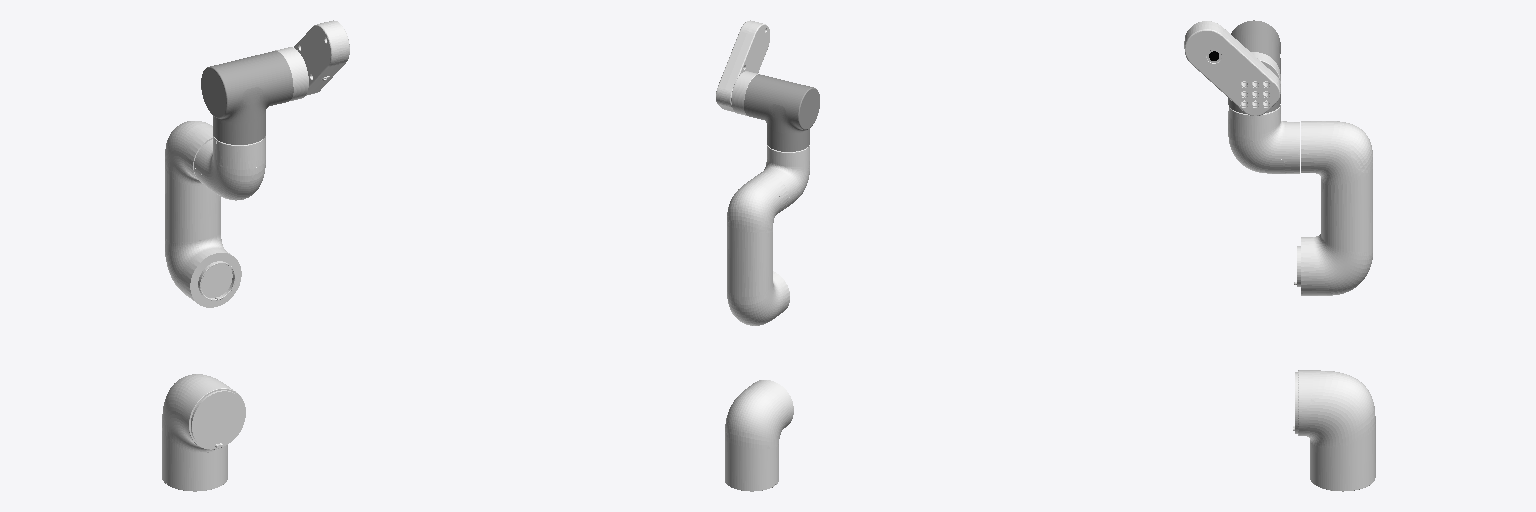
The robot description file, URDF, robot "mycobot_280_jn":
<?xml version="1.0"?>
<robot name="mycobot_280_jn">
  <link name="world"/>
  <joint name="world_to_g_base" type="fixed"><parent link="world"/><child link="g_base"/><origin xyz="0 0 0" rpy="0 0 0"/></joint>

  <link name="g_base">
    <visual>
      <geometry><mesh filename="package://positronic_description/urdf/mycobot_280_jn_sim/meshes/visual/g_base.dae"/></geometry>
    </visual>
    <collision>
      <geometry><mesh filename="package://positronic_description/urdf/mycobot_280_jn_sim/meshes/collision/g_base.stl"/></geometry>
    </collision>
    <inertial>
      <origin xyz="0.000004 0.000000 0.016000" rpy="0 0 0"/>
      <mass value="0.18415"/>
      <inertia ixx="3.5748e-04" ixy="5.8017e-10" ixz="1.5028e-14" iyy="1.9952e-04" iyz="-4.0912e-09" izz="5.2559e-04"/>
    </inertial>
  </link>
  <joint name="g_base_to_joint1" type="fixed"><parent link="g_base"/><child link="joint1"/><origin xyz="0 0 0.0320" rpy="0 0 0"/></joint>

  <link name="joint1">
    <visual>
      <geometry><mesh filename="package://positronic_description/urdf/mycobot_280_jn_sim/meshes/visual/joint1.dae"/></geometry>
    </visual>
    <collision>
      <geometry><mesh filename="package://positronic_description/urdf/mycobot_280_jn_sim/meshes/collision/joint1.stl"/></geometry>
    </collision>
    <inertial>
      <origin xyz="-0.000007 -0.000080 0.049738" rpy="0 0 0"/>
      <mass value="0.50875"/>
      <inertia ixx="1.2317e-03" ixy="6.9182e-09" ixz="-6.2406e-08" iyy="9.2410e-04" iyz="1.1339e-06" izz="1.1863e-03"/>
    </inertial>
  </link>
  <link name="joint2">
    <visual>
      <geometry><mesh filename="package://positronic_description/urdf/mycobot_280_jn_sim/meshes/visual/joint2.dae"/></geometry>
    </visual>
    <collision>
      <geometry><mesh filename="package://positronic_description/urdf/mycobot_280_jn_sim/meshes/collision/joint2.stl"/></geometry>
    </collision>
    <inertial>
      <origin xyz="-0.000000 -0.006642 -0.021543" rpy="0 0 0"/>
      <mass value="0.06376"/>
      <inertia ixx="4.6518e-05" ixy="-1.4217e-10" ixz="4.0220e-11" iyy="4.1988e-05" iyz="5.2079e-06" izz="2.3962e-05"/>
    </inertial>
  </link>
  <link name="joint3">
    <visual>
      <geometry><mesh filename="package://positronic_description/urdf/mycobot_280_jn_sim/meshes/visual/joint3.dae"/></geometry>
    </visual>
    <collision>
      <geometry><mesh filename="package://positronic_description/urdf/mycobot_280_jn_sim/meshes/collision/joint3.stl"/></geometry>
    </collision>
    <inertial>
      <origin xyz="-0.054329 -0.000001 0.055329" rpy="0 0 0"/>
      <mass value="0.11283"/>
      <inertia ixx="4.0982e-05" ixy="-4.4556e-09" ixz="-7.0957e-07" iyy="2.1152e-04" iyz="-8.7142e-10" izz="2.0504e-04"/>
    </inertial>
  </link>
  <link name="joint4">
    <visual>
      <geometry><mesh filename="package://positronic_description/urdf/mycobot_280_jn_sim/meshes/visual/joint4.dae"/></geometry>
    </visual>
    <collision>
      <geometry><mesh filename="package://positronic_description/urdf/mycobot_280_jn_sim/meshes/collision/joint4.stl"/></geometry>
    </collision>
    <inertial>
      <origin xyz="-0.045854 0.000000 0.007555" rpy="0 0 0"/>
      <mass value="0.08998"/>
      <inertia ixx="3.0322e-05" ixy="2.4186e-09" ixz="-2.9578e-06" iyy="1.3482e-04" iyz="1.3086e-09" izz="1.2647e-04"/>
    </inertial>
  </link>
  <link name="joint5">
    <visual>
      <geometry><mesh filename="package://positronic_description/urdf/mycobot_280_jn_sim/meshes/visual/joint5.dae"/></geometry>
    </visual>
    <collision>
      <geometry><mesh filename="package://positronic_description/urdf/mycobot_280_jn_sim/meshes/collision/joint5.stl"/></geometry>
    </collision>
    <inertial>
      <origin xyz="0.000001 -0.009519 -0.008481" rpy="0 0 0"/>
      <mass value="0.02887"/>
      <inertia ixx="1.1107e-05" ixy="2.2157e-10" ixz="1.0327e-10" iyy="8.0087e-06" iyz="1.5831e-06" izz="8.7282e-06"/>
    </inertial>
  </link>
  <link name="joint6">
    <visual>
      <geometry><mesh filename="package://positronic_description/urdf/mycobot_280_jn_sim/meshes/visual/joint6.dae"/></geometry>
    </visual>
    <collision>
      <geometry><mesh filename="package://positronic_description/urdf/mycobot_280_jn_sim/meshes/collision/joint6.stl"/></geometry>
    </collision>
    <inertial>
      <origin xyz="-0.000000 0.005619 -0.009142" rpy="0 0 0"/>
      <mass value="0.03611"/>
      <inertia ixx="1.6575e-05" ixy="1.3007e-11" ixz="9.1115e-11" iyy="1.1852e-05" iyz="-8.2298e-07" izz="1.2374e-05"/>
    </inertial>
  </link>
  <link name="joint6_flange">
    <visual>
      <geometry><mesh filename="package://positronic_description/urdf/mycobot_280_jn_sim/meshes/visual/joint6_flange.dae"/></geometry>
    </visual>
    <collision>
      <geometry><mesh filename="package://positronic_description/urdf/mycobot_280_jn_sim/meshes/collision/joint6_flange.stl"/></geometry>
    </collision>
    <inertial>
      <origin xyz="-0.000000 -0.000000 -0.005150" rpy="0 0 0"/>
      <mass value="0.00556"/>
      <inertia ixx="5.9851e-07" ixy="-5.1008e-24" ixz="1.4442e-24" iyy="5.9851e-07" iyz="-7.4388e-16" izz="1.0234e-06"/>
    </inertial>
  </link>
  <joint name="joint2_to_joint1" type="revolute">
    <parent link="joint1"/><child link="joint2"/>
    <origin xyz="0 0 0.15756" rpy="0 0 0"/>
    <axis xyz="0 0 1"/>
    <limit effort="10.0" lower="-2.9321" upper="2.9321" velocity="2.618"/>
    <dynamics damping="0.1" friction="0.01"/>
  </joint>
  <joint name="joint3_to_joint2" type="revolute">
    <parent link="joint2"/><child link="joint3"/>
    <origin xyz="0 0 -0.001" rpy="0 1.5708 -1.5708"/>
    <axis xyz="0 0 1"/>
    <limit effort="10.0" lower="-2.4434" upper="2.4434" velocity="2.618"/>
    <dynamics damping="0.1" friction="0.01"/>
  </joint>
  <joint name="joint4_to_joint3" type="revolute">
    <parent link="joint3"/><child link="joint4"/>
    <origin xyz="-0.1104 0 0" rpy="0 0 0"/>
    <axis xyz="0 0 1"/>
    <limit effort="10.0" lower="-2.6179" upper="2.6179" velocity="2.618"/>
    <dynamics damping="0.1" friction="0.01"/>
  </joint>
  <joint name="joint5_to_joint4" type="revolute">
    <parent link="joint4"/><child link="joint5"/>
    <origin xyz="-0.096 0 0.06462" rpy="0 0 -1.5708"/>
    <axis xyz="0 0 1"/>
    <limit effort="10.0" lower="-2.6179" upper="2.6179" velocity="2.618"/>
    <dynamics damping="0.1" friction="0.01"/>
  </joint>
  <joint name="joint6_to_joint5" type="revolute">
    <parent link="joint5"/><child link="joint6"/>
    <origin xyz="0 -0.07318 0" rpy="1.5708 -1.5708 0"/>
    <axis xyz="0 0 1"/>
    <limit effort="10.0" lower="-2.7052" upper="2.7925" velocity="2.618"/>
    <dynamics damping="0.1" friction="0.01"/>
  </joint>
  <joint name="joint6output_to_joint6" type="revolute">
    <parent link="joint6"/><child link="joint6_flange"/>
    <origin xyz="0 0.0456 0" rpy="-1.5708 0.7854 0"/>
    <axis xyz="0 0 1"/>
    <limit effort="10.0" lower="-3.14159" upper="3.14159" velocity="2.618"/>
    <dynamics damping="0.1" friction="0.01"/>
  </joint>
  <joint name="joint6output_to_camera_flange" type="fixed">
    <parent link="joint6_flange"/><child link="camera_flange"/>
    <origin xyz="0 0 0.01" rpy="1.5708 0 -1.5708"/>
  </joint>
  <link name="camera_flange">
    <visual>
      <geometry><mesh filename="package://positronic_description/urdf/mycobot_280_jn_sim/meshes/visual/camera_flange.dae"/></geometry>
    </visual>
    <collision>
      <geometry><mesh filename="package://positronic_description/urdf/mycobot_280_jn_sim/meshes/collision/camera_flange.stl"/></geometry>
    </collision>
    <inertial>
      <origin xyz="0.023130 0.000000 -0.000136" rpy="0 0 0"/>
      <mass value="0.03000"/>
      <inertia ixx="3.1836e-06" ixy="2.6569e-11" ixz="-3.1215e-09" iyy="1.7767e-05" iyz="4.1651e-11" izz="1.5849e-05"/>
    </inertial>
  </link>

  <link name="camera_link"/>
  <joint name="camera_flange_to_camera_link" type="fixed">
    <parent link="camera_flange"/><child link="camera_link"/>
    <!-- The roll about the optical axis puts the gripper at the bottom of the image. The raw
         image of the real camera matches it once turned 90 deg counterclockwise (#97). -->
    <origin xyz="0.0415 0.0083 0.0000" rpy="1.5708 0 1.5708"/>
  </joint>
  <gazebo reference="camera_link">
    <sensor name="wrist_camera" type="camera">
      <always_on>1</always_on><update_rate>30</update_rate><visualize>true</visualize>
      <topic>wrist_camera/image_raw</topic>
      <camera>
        <horizontal_fov>1.047</horizontal_fov>
        <image><width>640</width><height>480</height><format>R8G8B8</format></image>
        <clip><near>0.02</near><far>5.0</far></clip>
      </camera>
    </sensor>
  </gazebo>

  <gazebo reference="joint2"><turnGravityOff>true</turnGravityOff></gazebo>
  <gazebo reference="joint3"><turnGravityOff>true</turnGravityOff></gazebo>
  <gazebo reference="joint4"><turnGravityOff>true</turnGravityOff></gazebo>
  <gazebo reference="joint5"><turnGravityOff>true</turnGravityOff></gazebo>
  <gazebo reference="joint6"><turnGravityOff>true</turnGravityOff></gazebo>
  <gazebo reference="joint6_flange"><turnGravityOff>true</turnGravityOff></gazebo>
  <gazebo reference="camera_flange"><turnGravityOff>true</turnGravityOff></gazebo>
</robot>

--- Facts derived from the render (not from the file) ---
The picture shows the robot from 3 angles, left to right: view 1: azimuth 30°, elevation 25°; view 2: azimuth 150°, elevation 25°; view 3: azimuth 270°, elevation 25°; orthographic projection.
Robot: mycobot_280_jn — 11 links, 10 joints (6 revolute, 4 fixed); root link world; default pose: every joint at zero.
Links seen in each view (by area): view 1: joint4, joint2, joint6, joint5, camera_flange, joint6_flange; view 2: joint4, joint2, joint6, camera_flange, joint5, joint6_flange; view 3: joint4, joint2, camera_flange, joint5, joint6.
Boxes of the visible links, x1,y1,x2,y2 form: joint4: (165,121,241,307); joint2: (162,374,245,491); joint6: (201,51,293,144); joint5: (194,136,265,200); camera_flange: (294,20,349,95); joint6_flange: (275,47,308,100); joint4: (727,173,789,325); joint2: (725,380,793,491); joint6: (744,74,819,151); camera_flange: (716,20,769,111); joint5: (760,145,809,210); joint6_flange: (731,71,760,115); joint4: (1294,121,1372,295); joint2: (1293,370,1375,491); camera_flange: (1184,21,1280,115); joint5: (1228,105,1299,173); joint6: (1228,20,1280,113).
Size in the robot's own frame: 0.0876 by 0.1397 by 0.3938 metres.
Meshes: 9 distinct files referenced, 6 mesh visuals loaded (6 Collada DAE); not drawn: 3 (reference not matched to a file when rendering).
